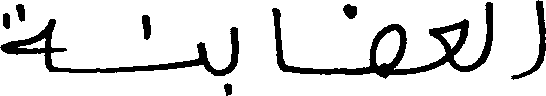ا: (512, 0, 545, 81), (270, 5, 287, 72)
ب: (215, 24, 238, 95)
ة: (0, 2, 55, 72)
ص: (364, 21, 407, 79)
ع: (426, 17, 469, 72)
ل: (482, 0, 493, 64)
ن: (132, 14, 208, 72)
